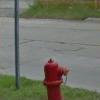Hydrant: (38, 50, 71, 100)
